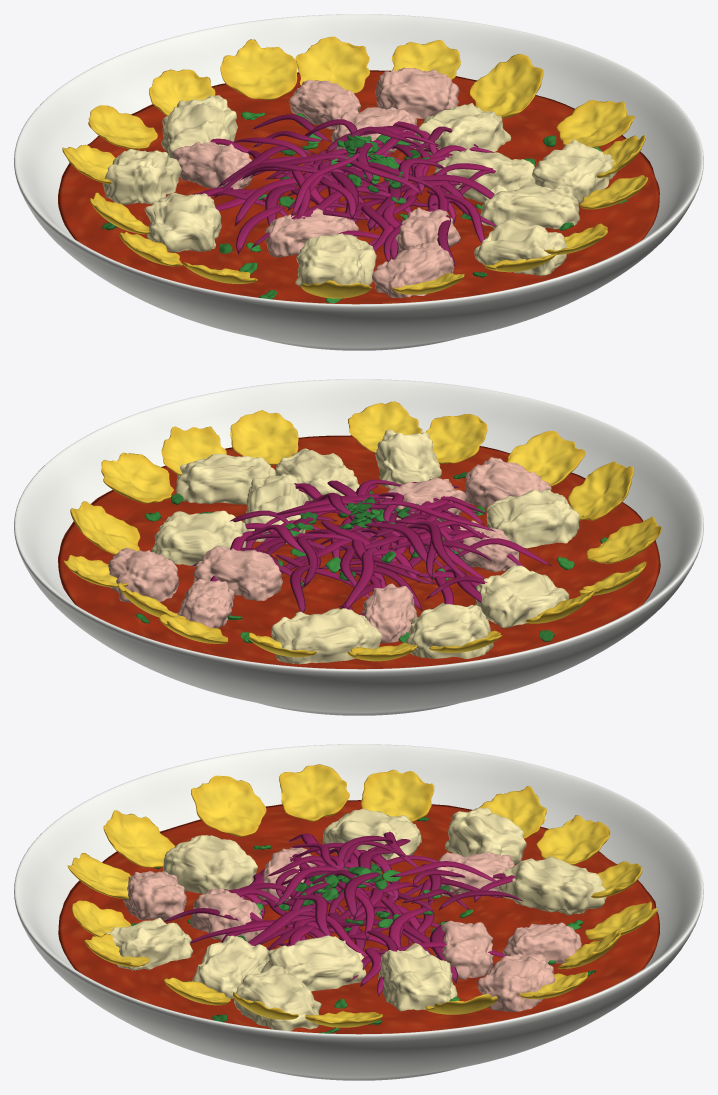
Rendered from comida_m5.glb.
The picture shows the model from 3 angles, top to bottom: view 1: azimuth 30°, elevation 25°; view 2: azimuth 150°, elevation 25°; view 3: azimuth 270°, elevation 25°; orthographic projection.
Parts seen in each view (by area): view 1: vajilla, caldo, yuca, chifles, cebolla_curtida, albacora, cilantro; view 2: vajilla, caldo, yuca, chifles, cebolla_curtida, albacora, cilantro; view 3: vajilla, caldo, yuca, chifles, cebolla_curtida, albacora, cilantro.
Boxes of the visible parts, left/top/right/bottom form: vajilla: left=14, top=14, right=703, bottom=350; caldo: left=58, top=70, right=659, bottom=304; yuca: left=102, top=95, right=616, bottom=286; chifles: left=62, top=36, right=647, bottom=298; cebolla_curtida: left=191, top=114, right=496, bottom=266; albacora: left=172, top=67, right=460, bottom=297; cilantro: left=101, top=111, right=627, bottom=303; vajilla: left=14, top=379, right=703, bottom=715; caldo: left=58, top=435, right=660, bottom=669; yuca: left=151, top=430, right=579, bottom=664; chifles: left=63, top=401, right=662, bottom=661; cebolla_curtida: left=191, top=479, right=551, bottom=615; albacora: left=108, top=457, right=551, bottom=642; cilantro: left=136, top=472, right=607, bottom=643; vajilla: left=14, top=744, right=703, bottom=1080; caldo: left=58, top=800, right=659, bottom=1034; yuca: left=105, top=807, right=606, bottom=1031; chifles: left=67, top=764, right=657, bottom=1027; cebolla_curtida: left=164, top=831, right=523, bottom=996; albacora: left=123, top=847, right=581, bottom=1011; cilantro: left=131, top=817, right=596, bottom=1033.
Bounding box in the file's own units: 1.2 × 0.2706 × 1.2.
